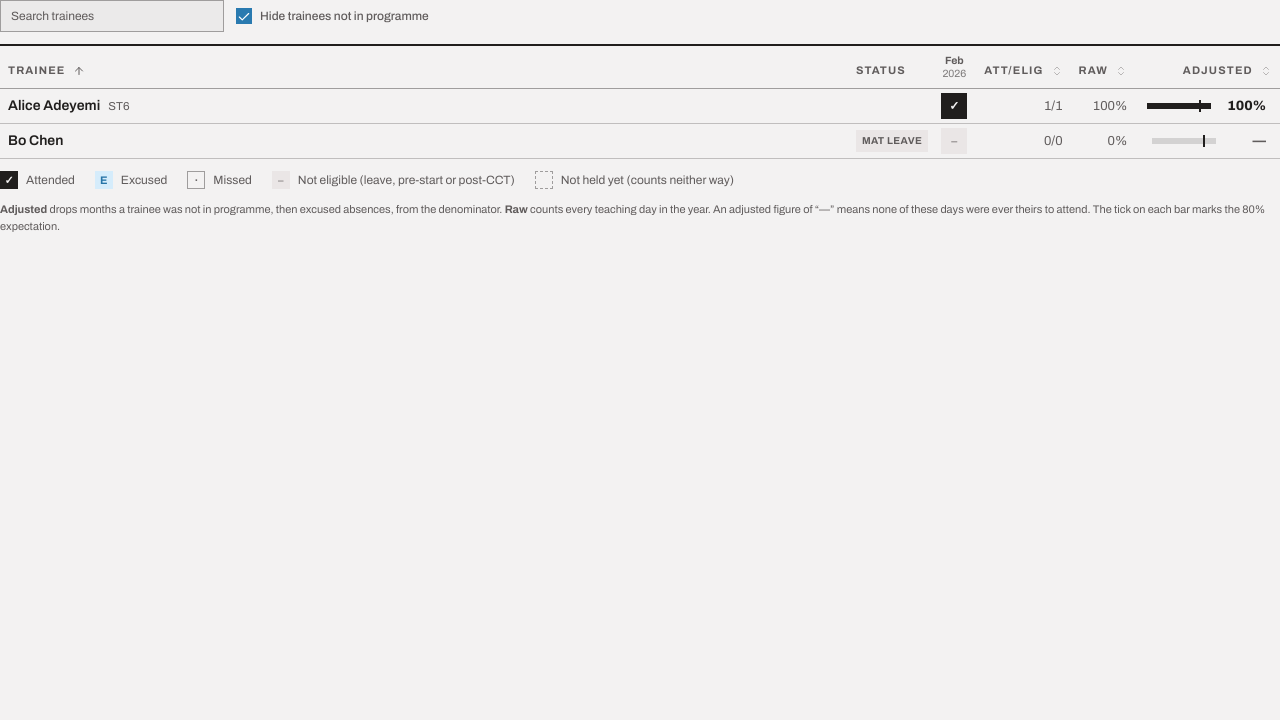
Scenario: AttendanceGrid cells › explains a cell that is not theirs to attend, and offers no way to flip it
The width and height of the screenshot is (1280, 720).
Click the button named "Bo Chen": {"x": 954, "y": 141} [941,128,967,154]
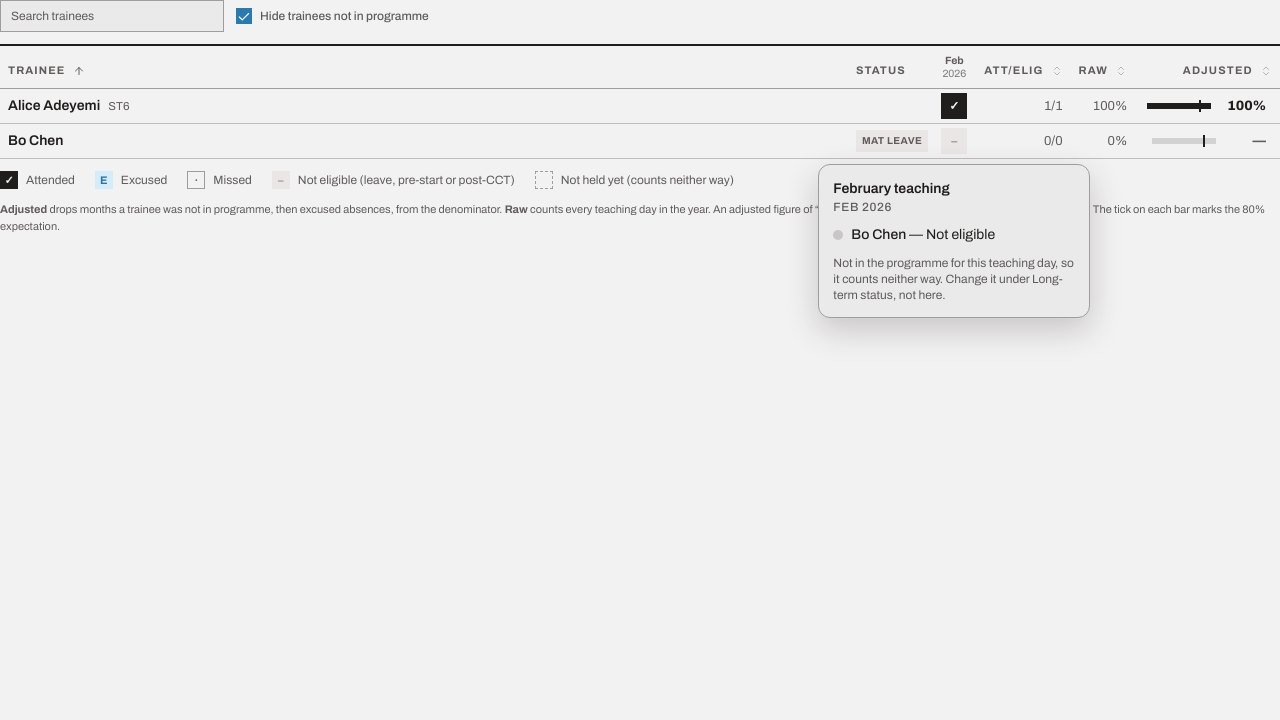
Check: the text "Not in the programme for this teaching day" is shown, box [833,256,1074,302]
